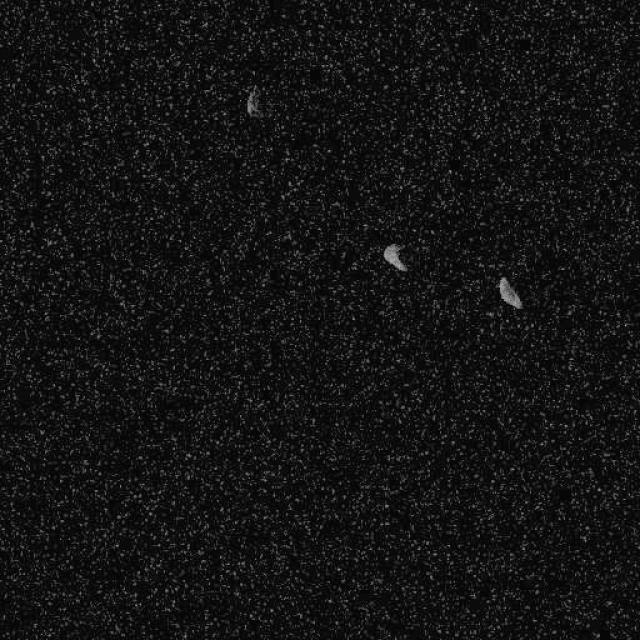D2: (497, 275, 522, 310), (382, 242, 408, 272), (244, 85, 264, 119)
